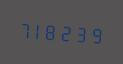eight: (46, 18, 59, 43)
nine: (88, 21, 101, 46)
one: (31, 17, 44, 42)
seven: (17, 16, 30, 41)
three: (74, 20, 87, 45)
two: (60, 19, 73, 44)
